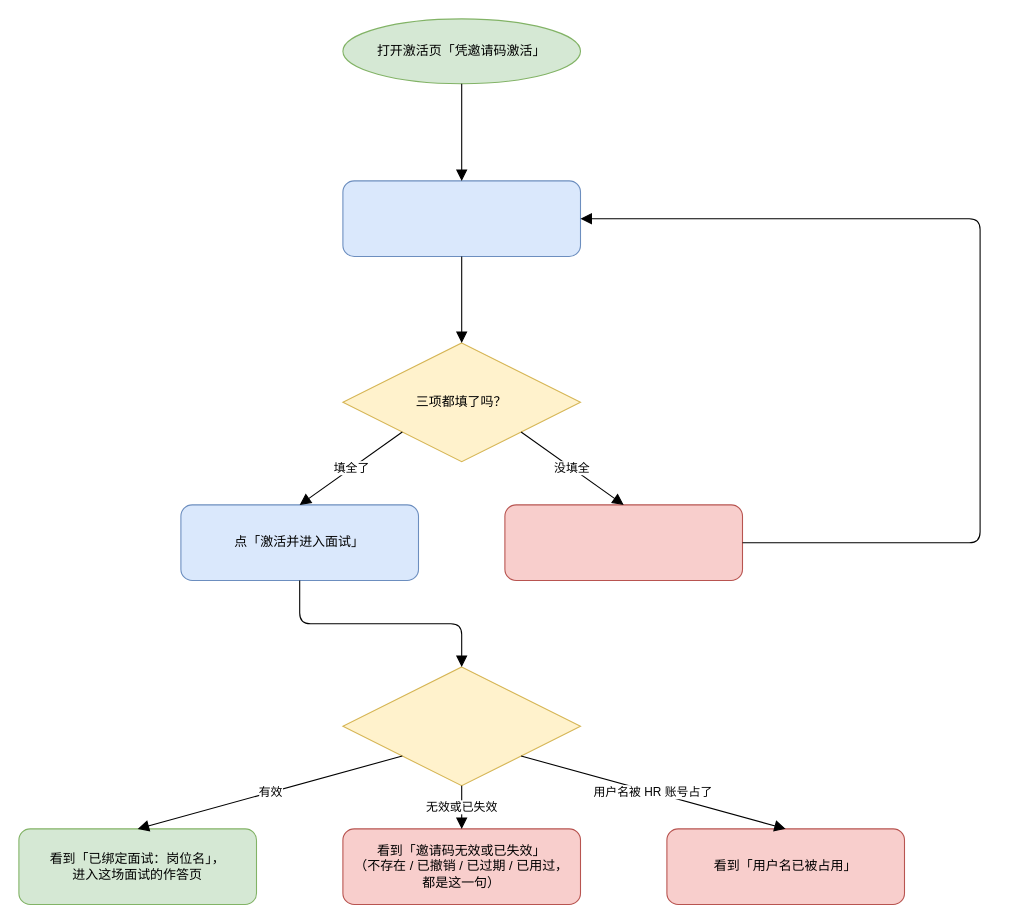
Image size: 1010x923. Some labels were removed from this diagram. The shapes that lost their labels are listed below. From the top down, each one's centre as x and y in pixels, then its label:
[461,218]: 填「邀请码」 再想一个「用户名」与「密码」
[623,542]: 看到「请填写邀请码」 等提示
[461,726]: 邀请码有效吗？
